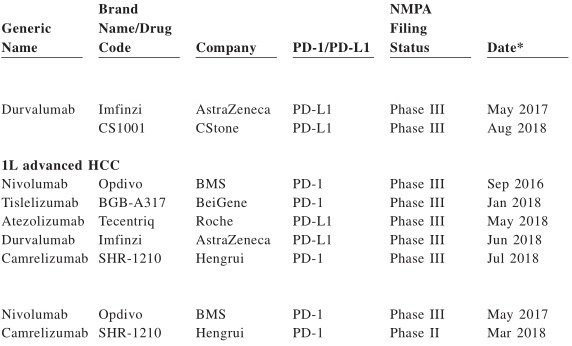column: (1, 1, 88, 346), (88, 1, 173, 346), (292, 1, 370, 346), (195, 1, 271, 346), (487, 1, 549, 346), (389, 1, 445, 346)
row: (1, 214, 572, 230), (1, 21, 572, 36), (1, 103, 572, 117), (1, 122, 572, 136), (1, 178, 572, 192), (1, 308, 572, 322), (1, 327, 572, 341), (1, 3, 572, 16), (1, 252, 572, 265), (1, 41, 572, 53), (1, 159, 572, 171), (1, 196, 572, 208), (1, 234, 572, 246)
